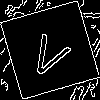V: (25, 25, 77, 82)
